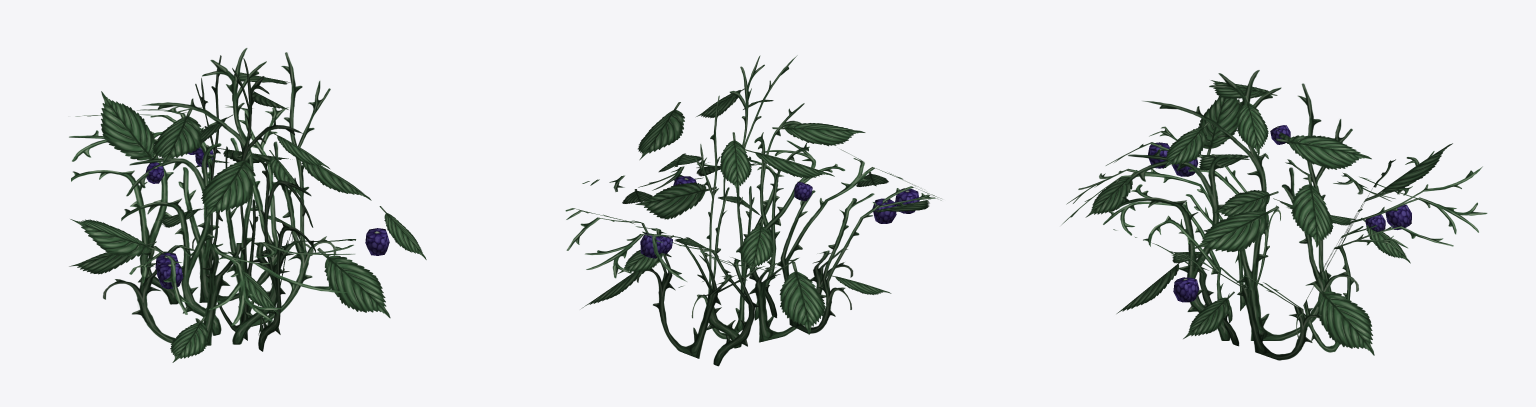
Rendered from blackberry.glb.
3 renders of one model, left to right at view 1: azimuth 30°, elevation 25°; view 2: azimuth 150°, elevation 25°; view 3: azimuth 270°, elevation 25°, orthographic. The views are drawn at different scales.
Parts seen in each view (by area): view 1: Object_3; view 2: Object_3; view 3: Object_3.
Boxes of the visible parts, x1=… form: Object_3: x1=69, y1=48, x2=426, y2=362; Object_3: x1=565, y1=55, x2=941, y2=366; Object_3: x1=1062, y1=70, x2=1487, y2=360.
Size of the model in its own units: 7.38 by 4.5 by 7.35.
Materials: 1 (1 with a texture image).
